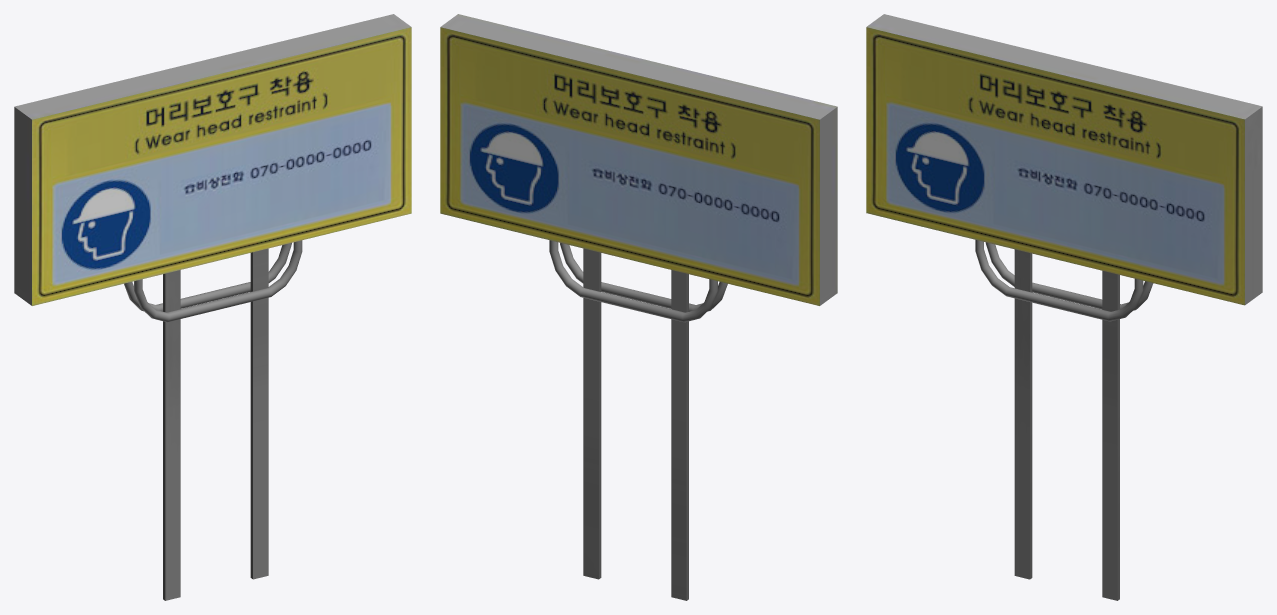
The model's file is cautionHead.gltf.
3 renders of one model, left to right at view 1: azimuth 30°, elevation 25°; view 2: azimuth 150°, elevation 25°; view 3: azimuth 330°, elevation 25°, orthographic.
Visible parts, largest first — view 1: head; view 2: head; view 3: head.
Boxes of the visible parts, x1,y1,x2,y2 form: head: [14, 14, 411, 600]; head: [440, 14, 837, 600]; head: [866, 14, 1262, 600].
Size of the model in its own units: 21.53 by 28.25 by 1.76.
1 material, 1 textured.
